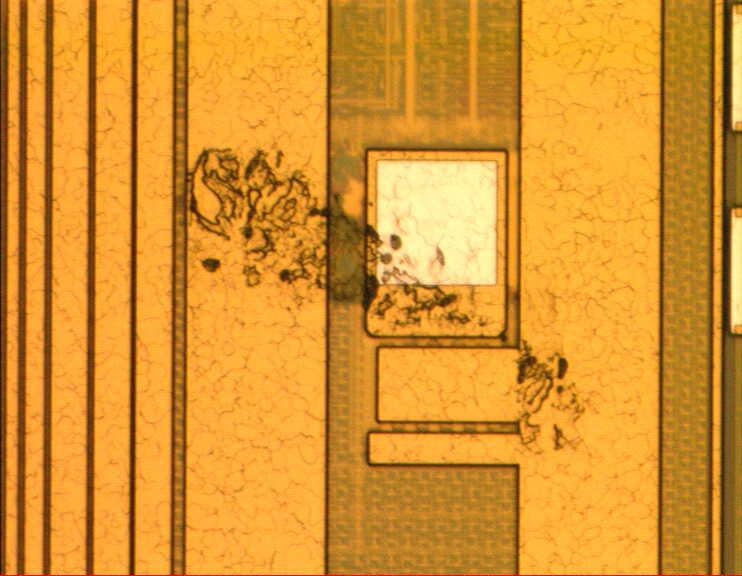SCRATCH: (178, 146, 589, 454)
